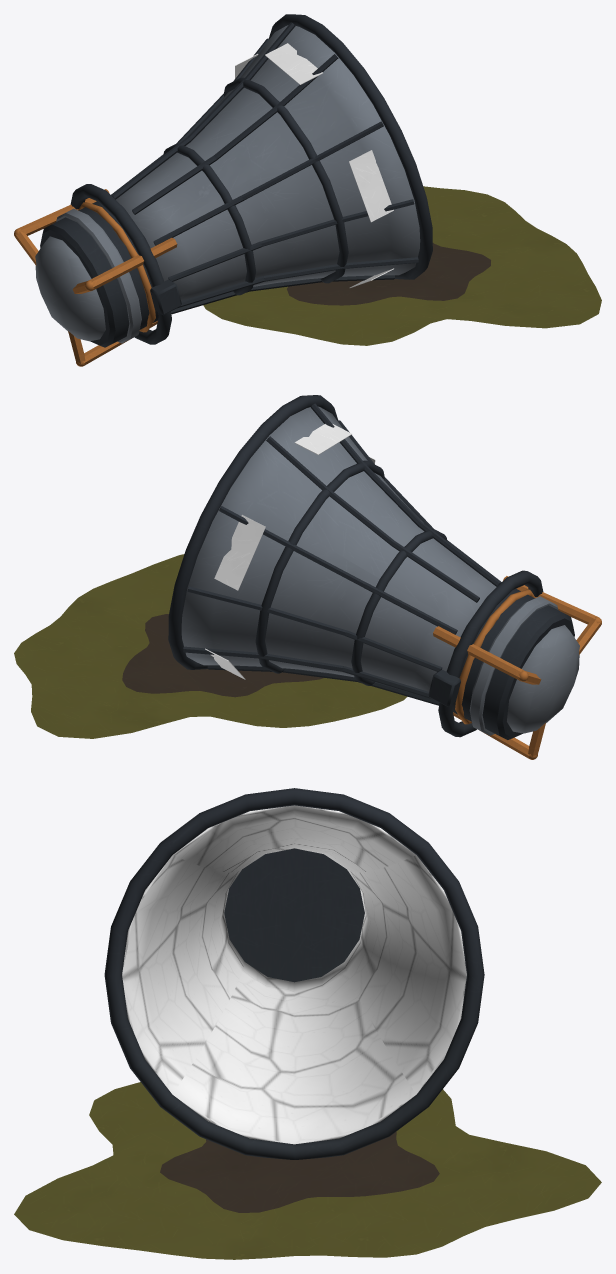
File: thruster_cone.glb
The picture shows the model from 3 angles, top to bottom: view 1: azimuth 30°, elevation 25°; view 2: azimuth 150°, elevation 25°; view 3: azimuth 270°, elevation 25°; orthographic projection. The views are drawn at different scales.
Parts seen in each view (by area): view 1: thruster_cone; view 2: thruster_cone; view 3: thruster_cone.
Part boxes in pixels (box(x1,y1,x2,y2)): thruster_cone: box(14, 14, 601, 366); thruster_cone: box(14, 395, 601, 759); thruster_cone: box(14, 788, 601, 1259).
Size of the model in its own units: 4.19 by 2.29 by 3.34.
Materials: 7 (7 with a texture image).
